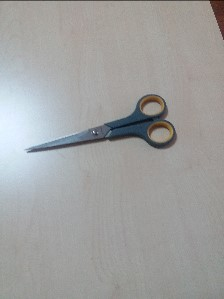scissors: (28, 95, 181, 162)
